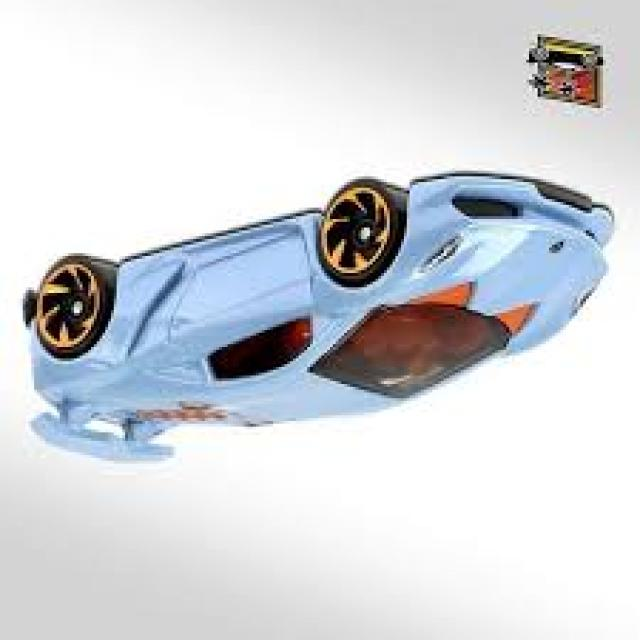Car: (20, 174, 614, 466)
